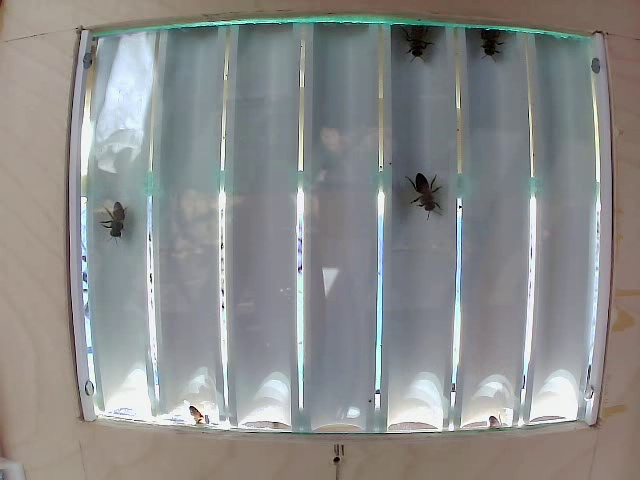bee: (102, 196, 148, 250), (395, 11, 438, 67), (396, 156, 432, 219), (479, 10, 508, 69)
